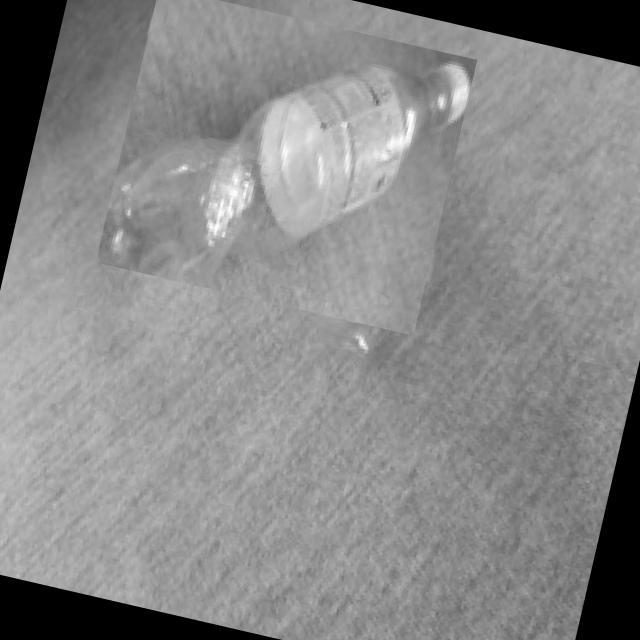good: (95, 0, 476, 334)
